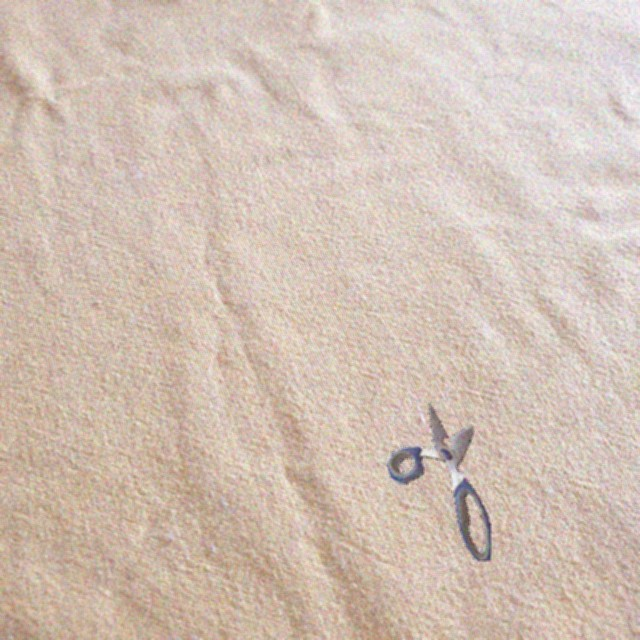scissors: (386, 403, 491, 561)
